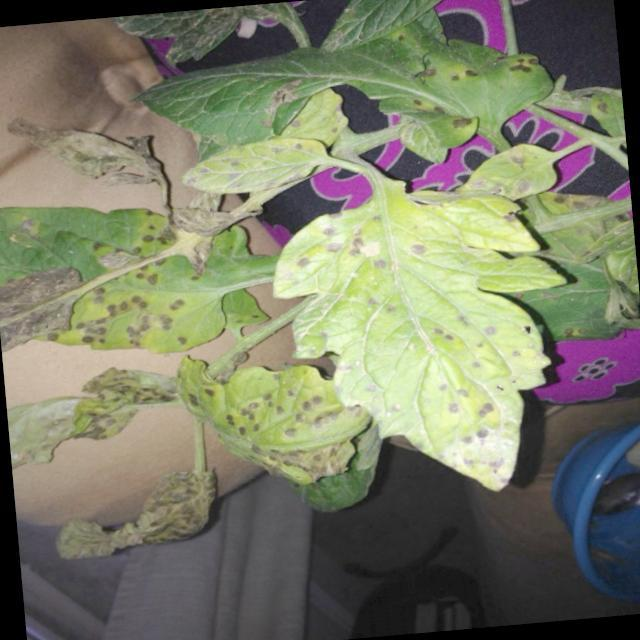Tomato Septoria spot leaf: (270, 171, 582, 518), (133, 17, 590, 173), (156, 339, 394, 496), (0, 187, 189, 360), (46, 245, 242, 364), (3, 360, 188, 476), (144, 132, 344, 212), (452, 142, 582, 210)
